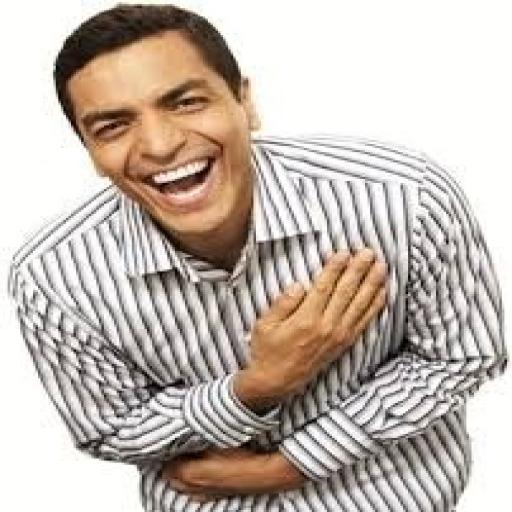laughing: (2, 0, 510, 510)
